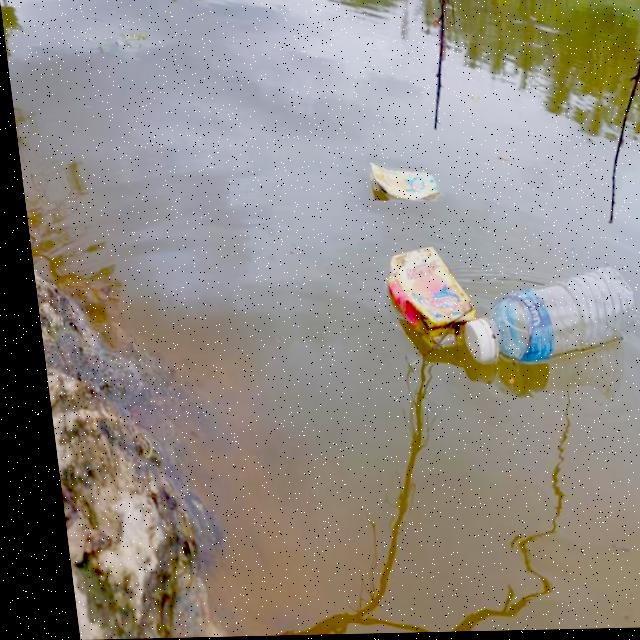paper: (366, 245, 465, 355), (337, 158, 447, 216)
waterbottle: (459, 263, 634, 384)
